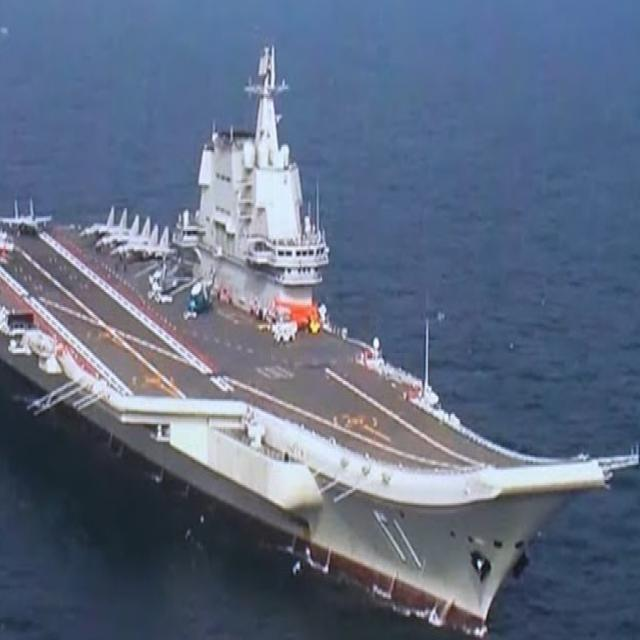navalvessels: (0, 48, 639, 637)
